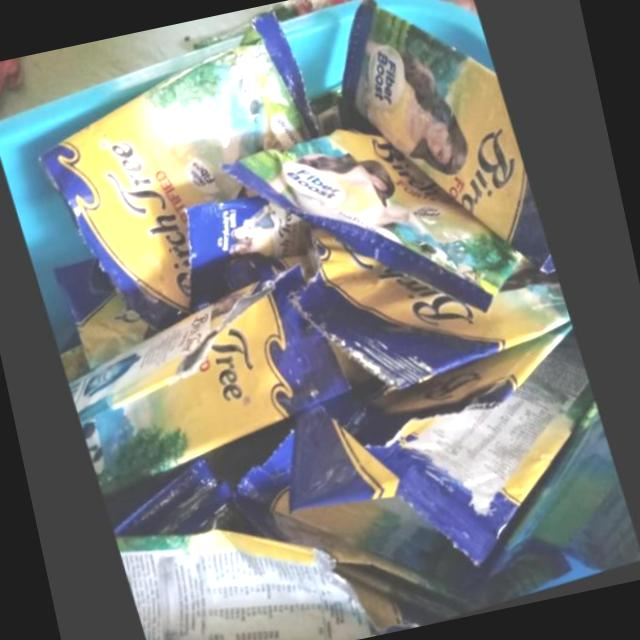goi_nhua_nho: (39, 13, 321, 332), (235, 403, 593, 609), (69, 263, 352, 497), (339, 1, 557, 277), (220, 130, 523, 316), (366, 330, 595, 566), (290, 323, 573, 512), (294, 229, 572, 392), (118, 528, 413, 640), (492, 406, 640, 575), (56, 259, 159, 370)
